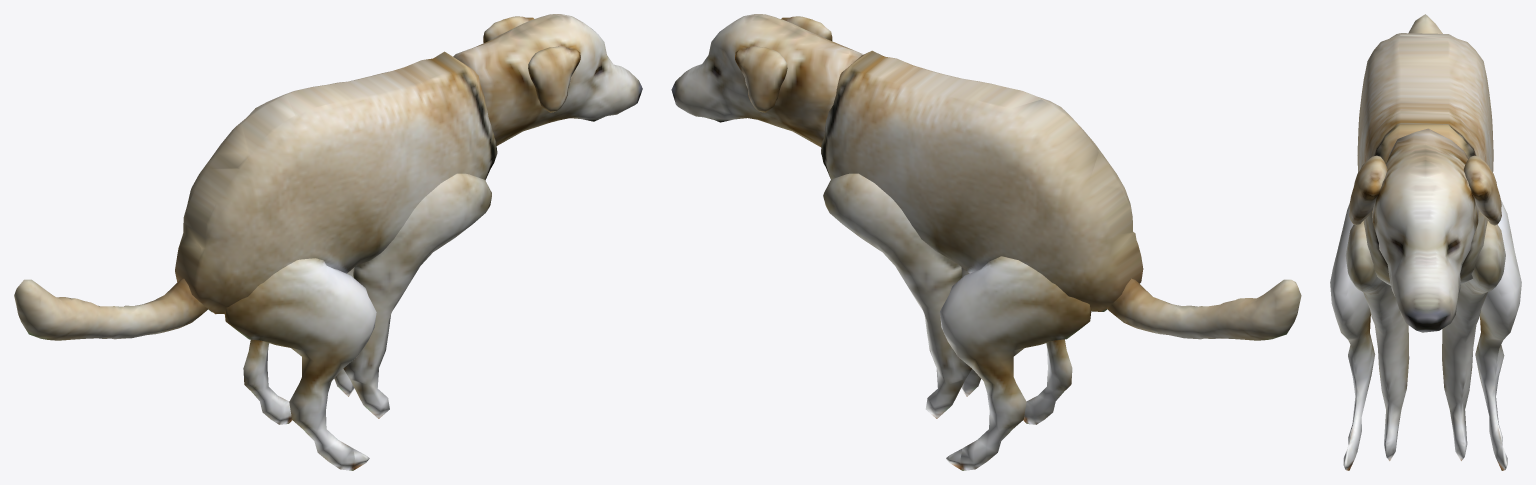
Rendered from perri.glb.
3 renders of one model, left to right at view 1: azimuth 30°, elevation 25°; view 2: azimuth 150°, elevation 25°; view 3: azimuth 270°, elevation 25°, orthographic. The views are drawn at different scales.
Parts seen in each view (by area): view 1: model; view 2: model; view 3: model.
Part boxes in pixels (x1,y1,x2,y2): model: (14, 14, 642, 470); model: (671, 14, 1301, 470); model: (1330, 14, 1521, 470).
Size of the model in its own units: 1.38 by 0.788 by 0.3091.
1 material, 1 textured.
